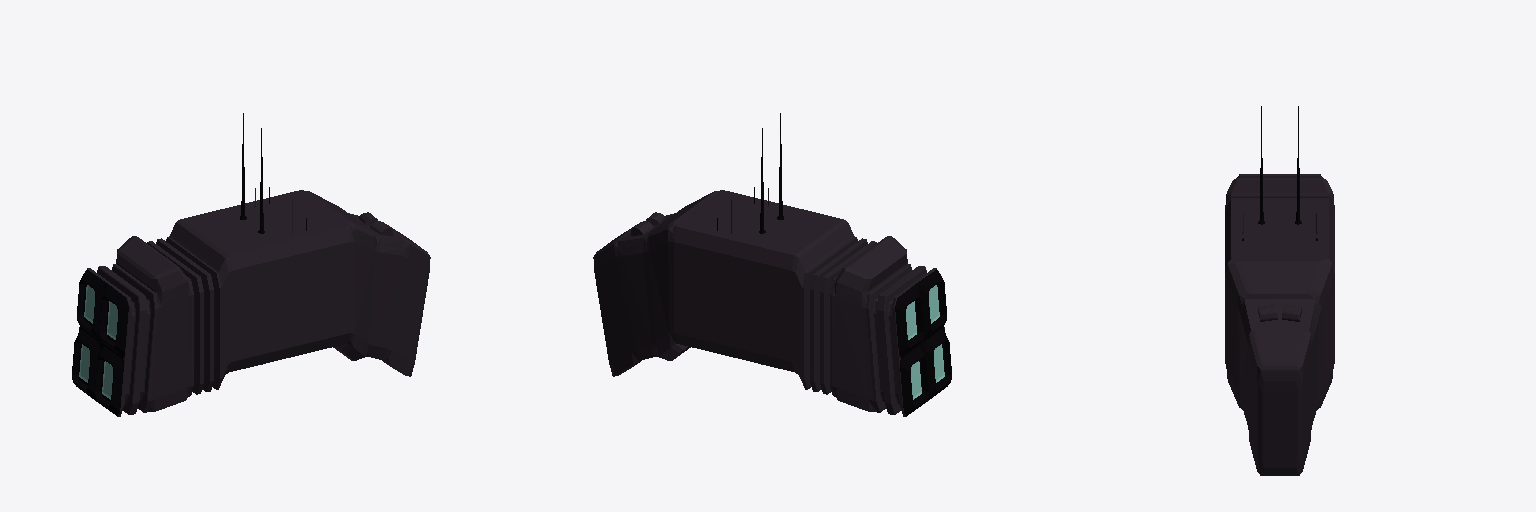
Rendered from ship1.obj.
The picture shows the model from 3 angles: view 1: azimuth 30°, elevation 25°; view 2: azimuth 150°, elevation 25°; view 3: azimuth 270°, elevation 25°; orthographic projection.
Visible parts, largest first — view 1: Spaceship_Mesh.002; view 2: Spaceship_Mesh.002; view 3: Spaceship_Mesh.002.
Part boxes in pixels (left/top/right/bottom): Spaceship_Mesh.002: left=72, top=113, right=430, bottom=416; Spaceship_Mesh.002: left=593, top=113, right=951, bottom=416; Spaceship_Mesh.002: left=1225, top=106, right=1334, bottom=475.
Size of the model in its own units: 5.76 by 4.97 by 1.68.